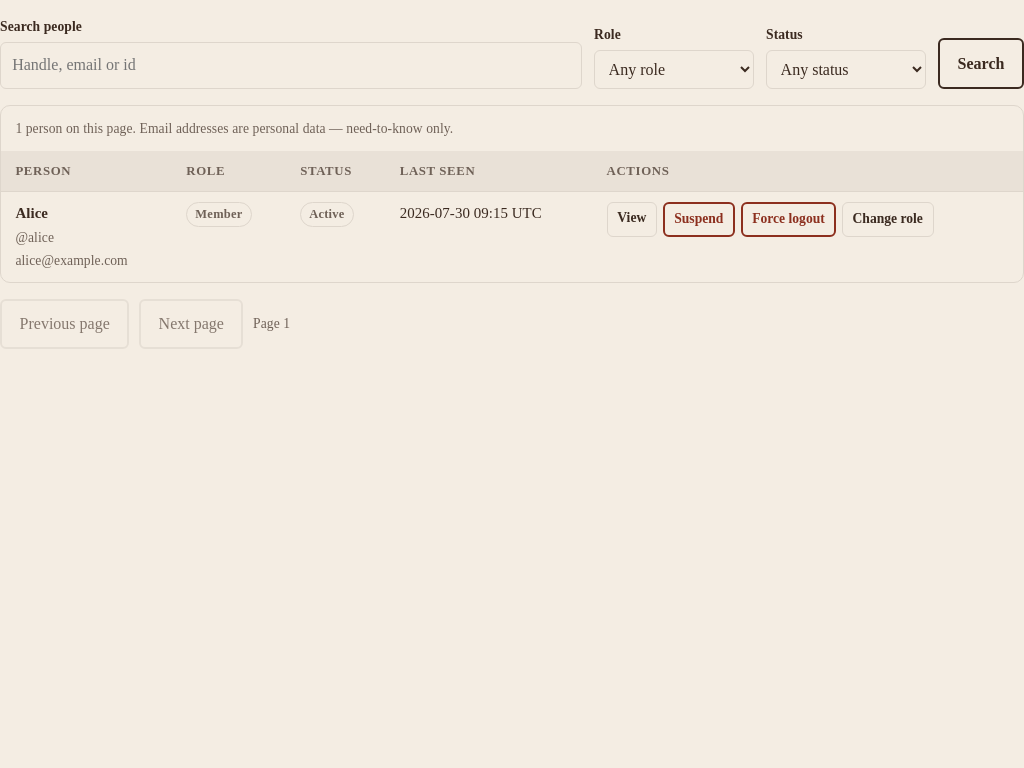
destructive confirmations › suspends, announces the result and refreshes the list
Expected: the link named "view alice" is shown, [607,202,657,237]
Click the button named "suspend alice".
click(699, 219)  # box [663,202,735,237]
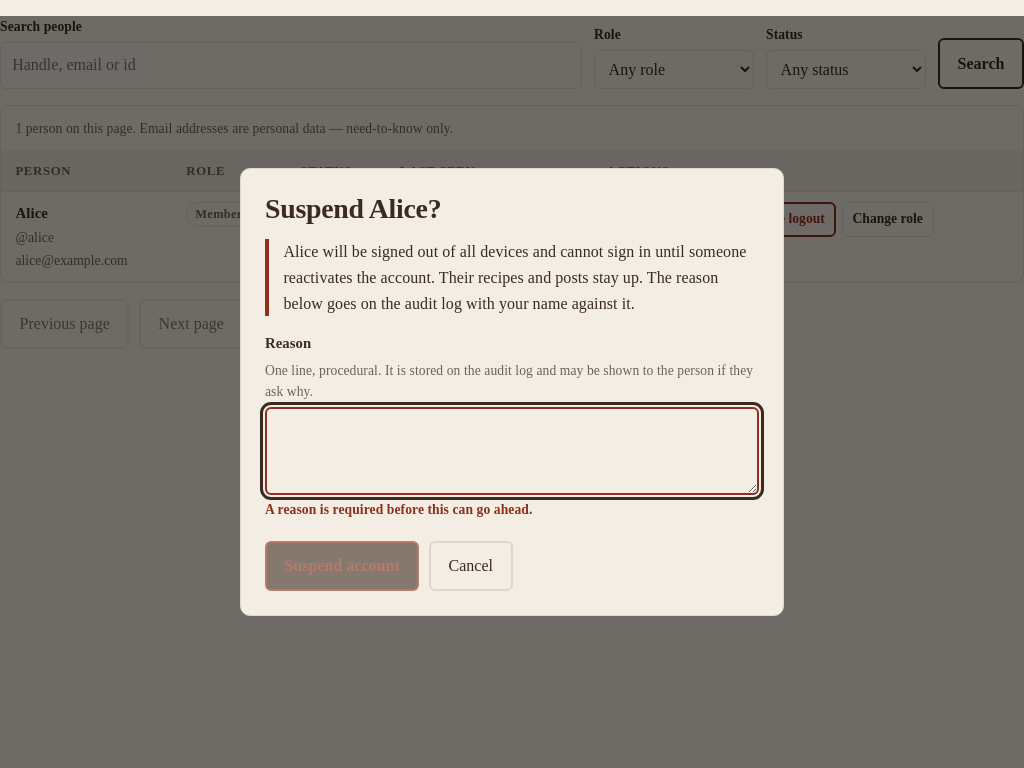
Type "Repeated spam" into the text box labelled "Reason".
click(512, 451); type("Repeated spam")  # box [265,407,759,495]
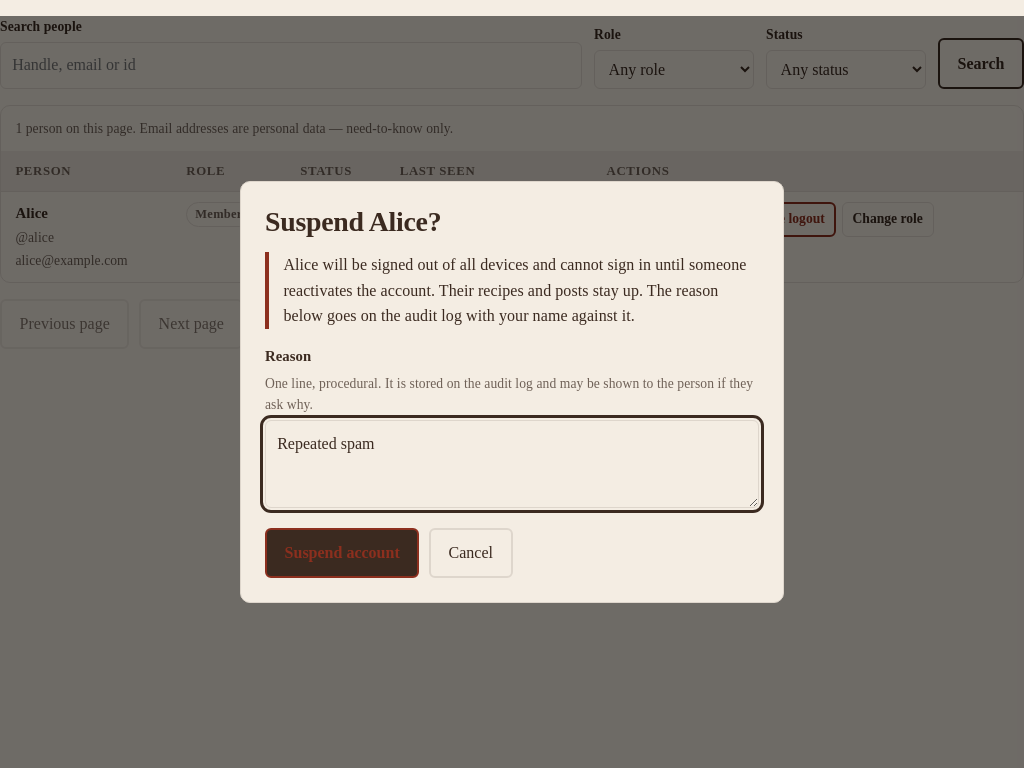
Click the button "Suspend account".
click(342, 553)  # box [265,528,419,578]
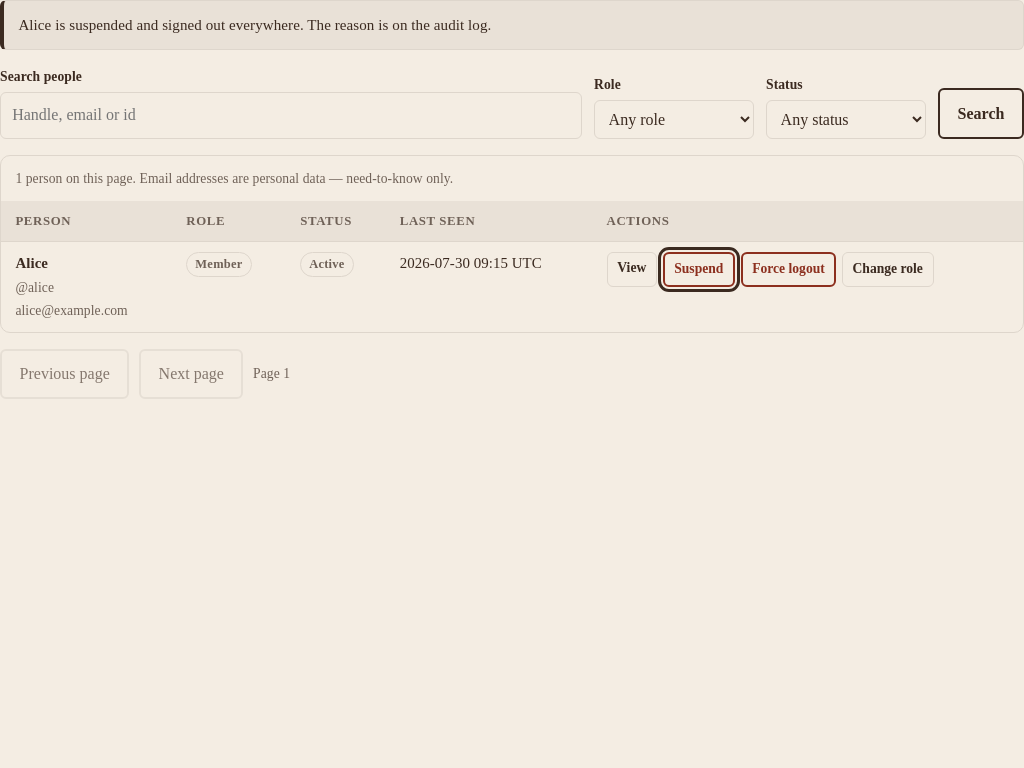
Result: the text "Alice is suspended and signed out everywhere. The reason is on the audit log." is shown at [0,0,1023,50]
Result: the dialog is gone
